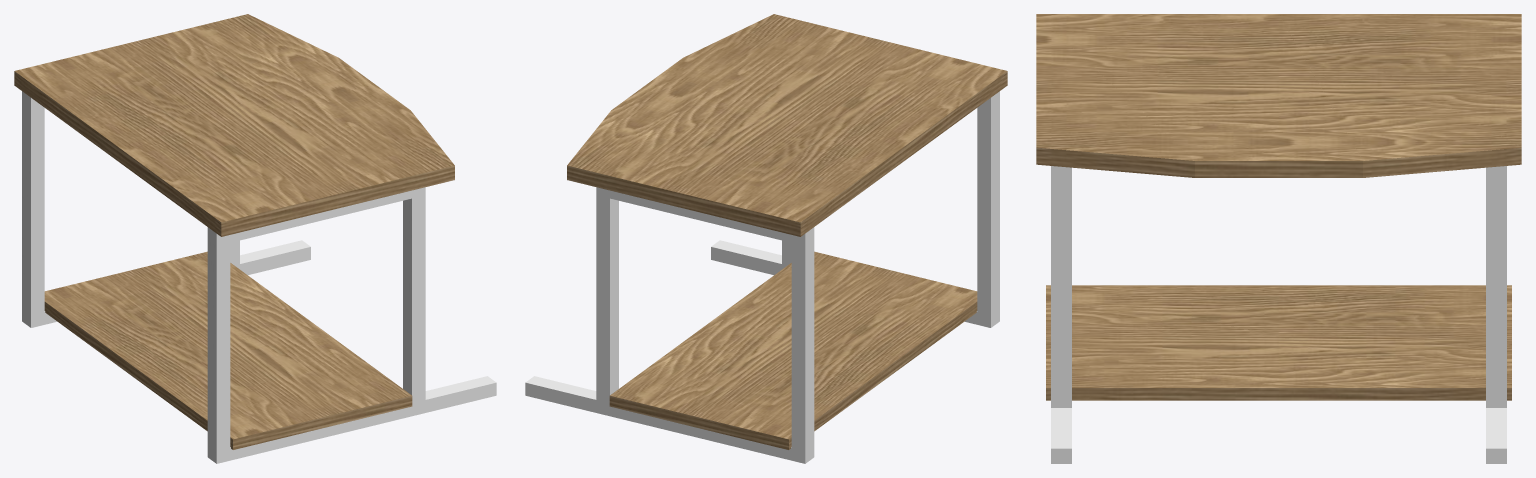
The model's file is Table_18.glb.
3 views of the same model, side by side, from view 1: azimuth 30°, elevation 25°; view 2: azimuth 150°, elevation 25°; view 3: azimuth 270°, elevation 25° (orthographic). The views are drawn at different scales.
Visible parts, largest first — view 1: Table_18; view 2: Table_18; view 3: Table_18.
Part boxes in pixels (x1,y1,x2,y2): Table_18: (14, 14, 496, 463); Table_18: (525, 14, 1007, 463); Table_18: (1036, 14, 1521, 463).
Size of the model in its own units: 1.04 by 0.8705 by 1.33.
2 materials, 1 textured.
